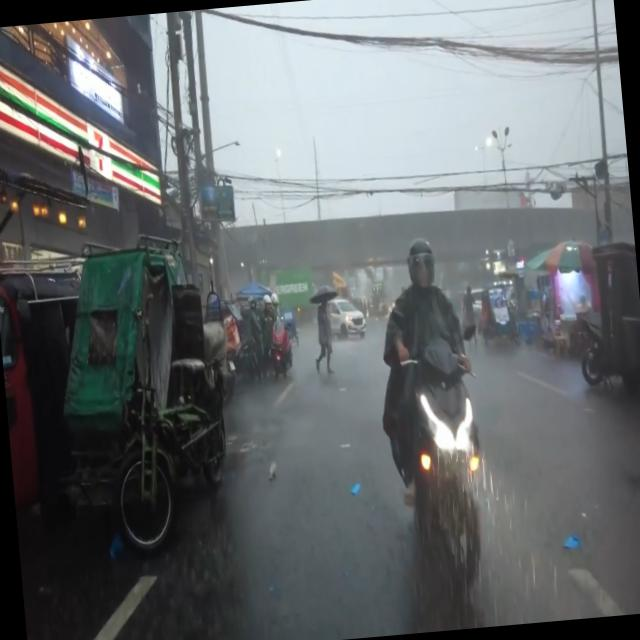half: (404, 236, 439, 294), (262, 292, 273, 316), (270, 290, 280, 313)
